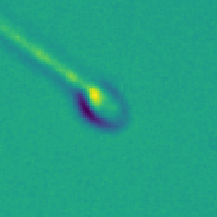normal: (1, 16, 86, 88)
